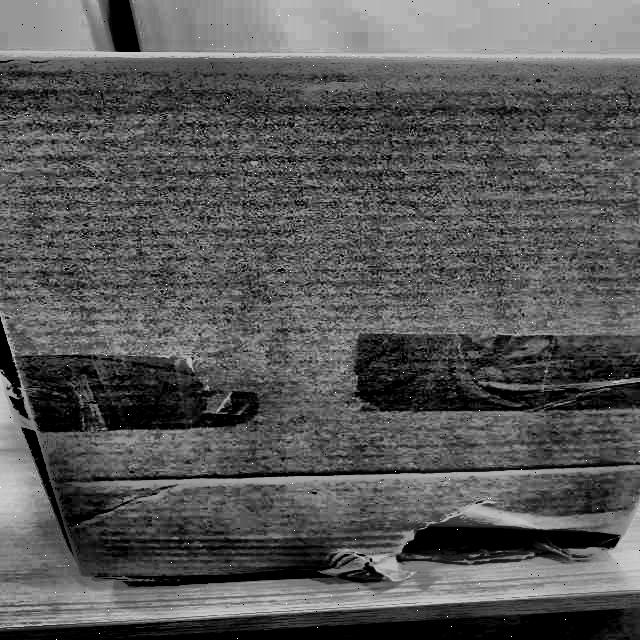box: (0, 41, 639, 596)
hole: (348, 514, 626, 568)
